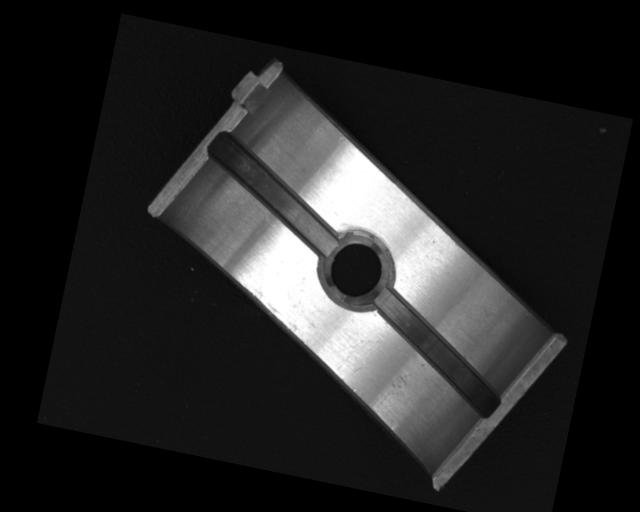gap: (354, 286, 518, 418), (193, 129, 352, 257)
hole: (316, 229, 397, 312)
